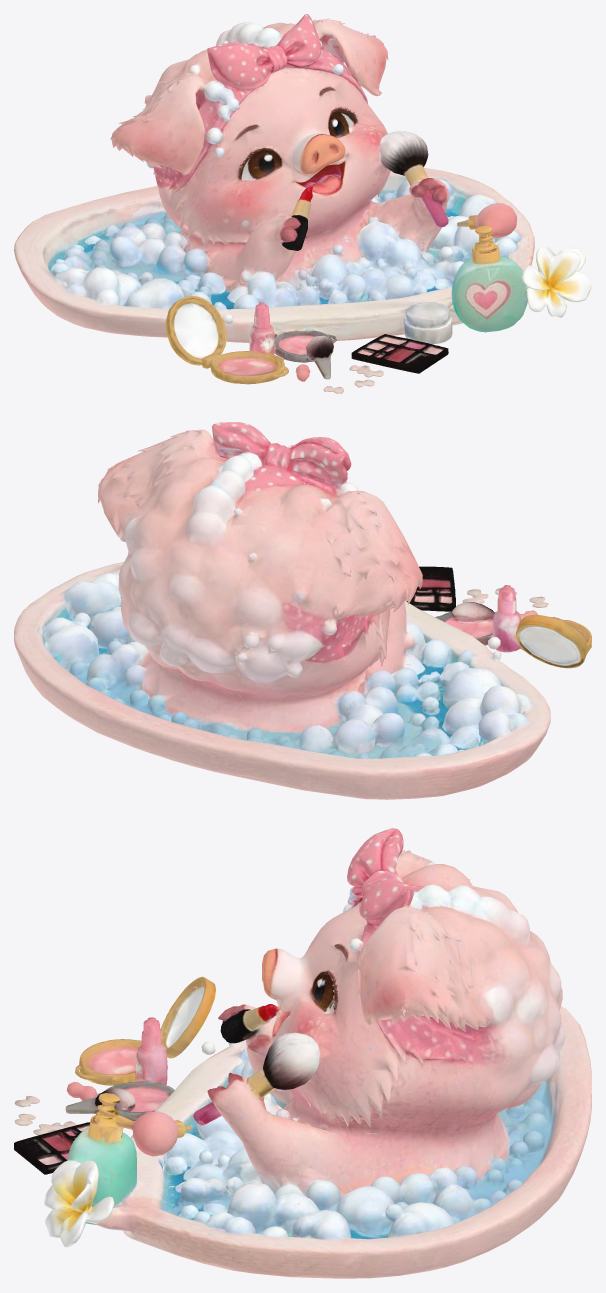
The model's file is pampered-piglet.glb.
3 views of the same model, one above another, from view 1: azimuth 30°, elevation 25°; view 2: azimuth 150°, elevation 25°; view 3: azimuth 270°, elevation 25° (orthographic). The views are drawn at different scales.
Bounding box in the file's own units: 1.9 × 0.9693 × 1.7.
1 material, 1 textured.
